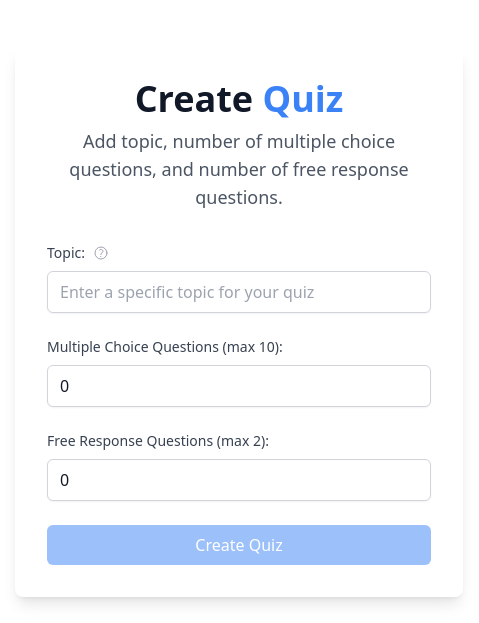
Create Quiz Page › shows topic helper when clicking the question mark icon
The image size is (479, 623).
Click the button with test id "topic-help-button". click: (101, 253)
box: [93,245,109,261]
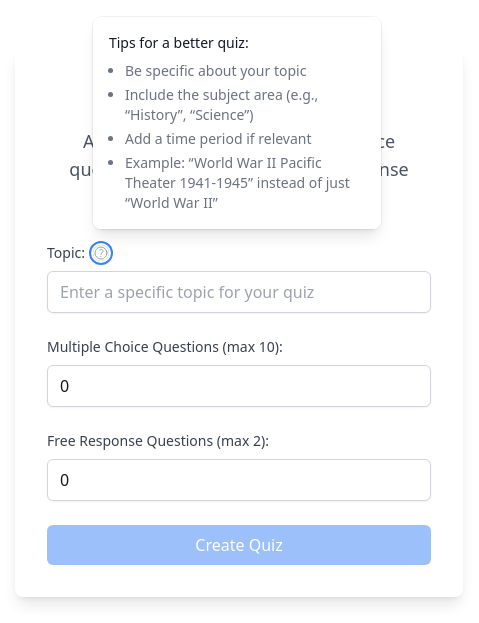
expect the text "Tips for a better quiz:" is shown: met, box [109,33,249,52]
expect the list item "Be specific about your topic" is shown: met, box [125,61,306,80]
